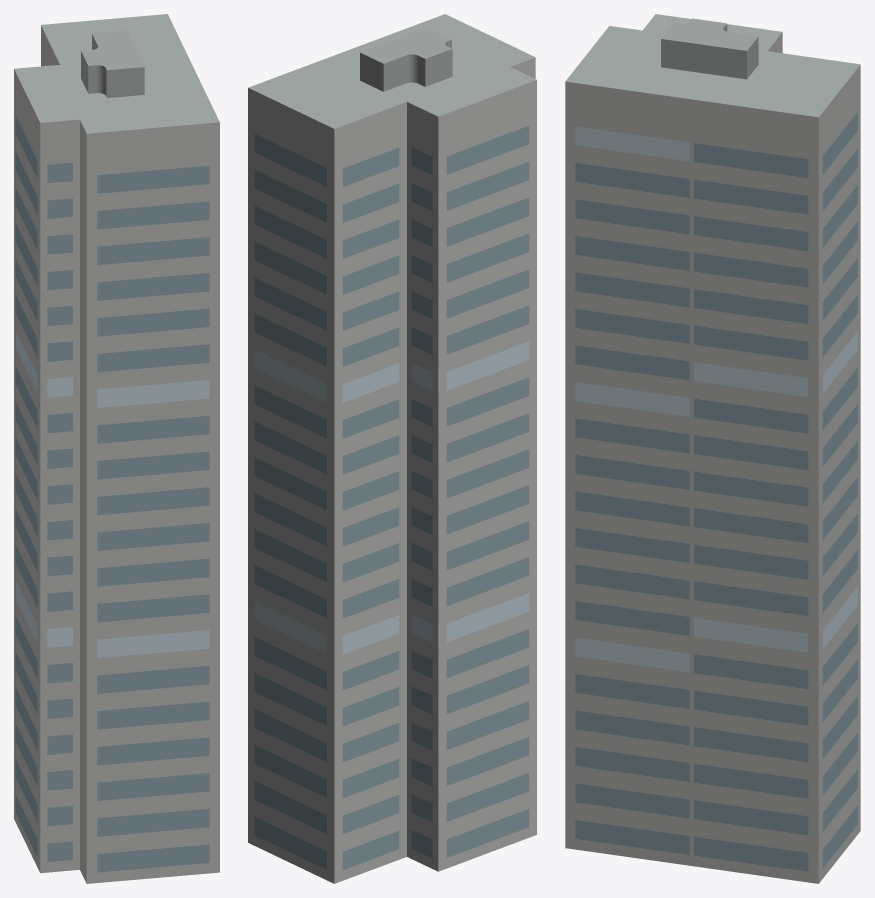
The model's file is fallback-dh-honor-hills-312.glb.
3 views of the same model, side by side, from view 1: azimuth 30°, elevation 25°; view 2: azimuth 150°, elevation 25°; view 3: azimuth 270°, elevation 25° (orthographic). The views are drawn at different scales.
Parts seen in each view (by area): view 1: fallback-dh-honor-hills-312; view 2: fallback-dh-honor-hills-312; view 3: fallback-dh-honor-hills-312.
Boxes of the visible parts, <box> form: fallback-dh-honor-hills-312: <box>14,14,219,883</box>; fallback-dh-honor-hills-312: <box>248,14,536,883</box>; fallback-dh-honor-hills-312: <box>565,14,860,883</box>.
Size of the model in its own units: 18.68 by 67 by 22.56.
